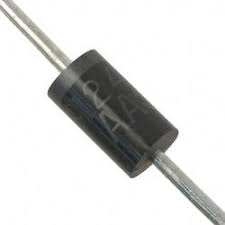diode: (13, 9, 197, 194)
